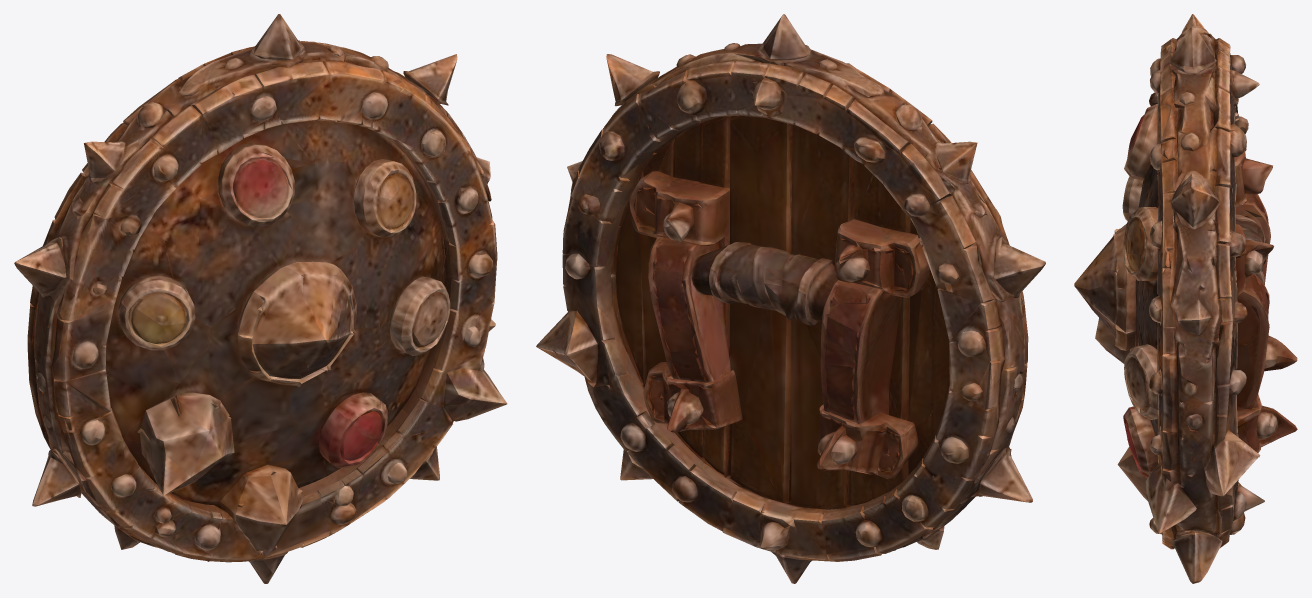
The model's file is shield.glb.
3 views of the same model, side by side, from view 1: azimuth 30°, elevation 25°; view 2: azimuth 150°, elevation 25°; view 3: azimuth 270°, elevation 25° (orthographic). The views are drawn at different scales.
Parts seen in each view (by area): view 1: Mesh_0; view 2: Mesh_0; view 3: Mesh_0.
Boxes of the visible parts, box(x1,y1,x2,y2) form: Mesh_0: box(14, 14, 507, 583); Mesh_0: box(536, 14, 1045, 583); Mesh_0: box(1074, 14, 1297, 583).
Bounding box in the file's own units: 1.74 × 1.9 × 0.7107.
Materials: 1 (1 with a texture image).
